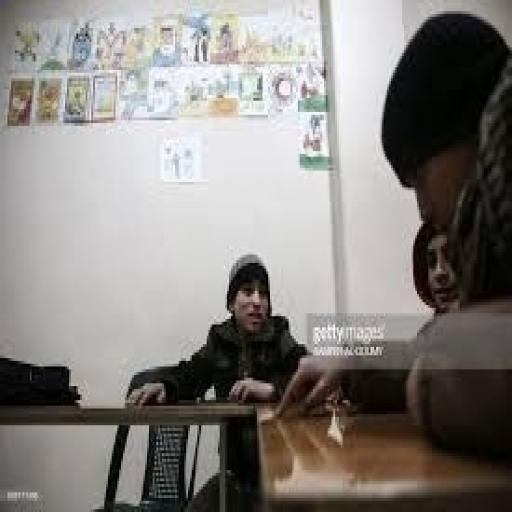sitting: (121, 8, 510, 504), (123, 249, 311, 509)
